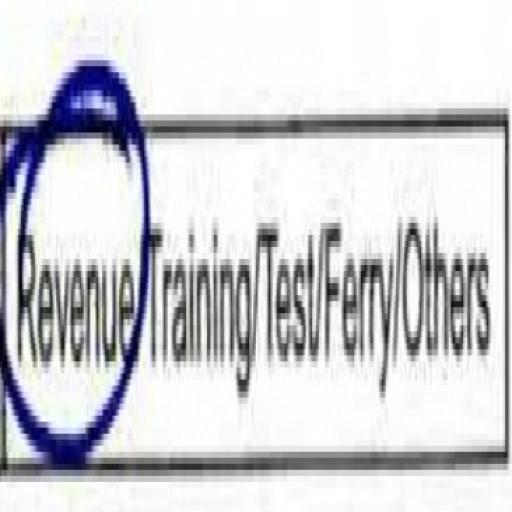check: (0, 25, 148, 511)
